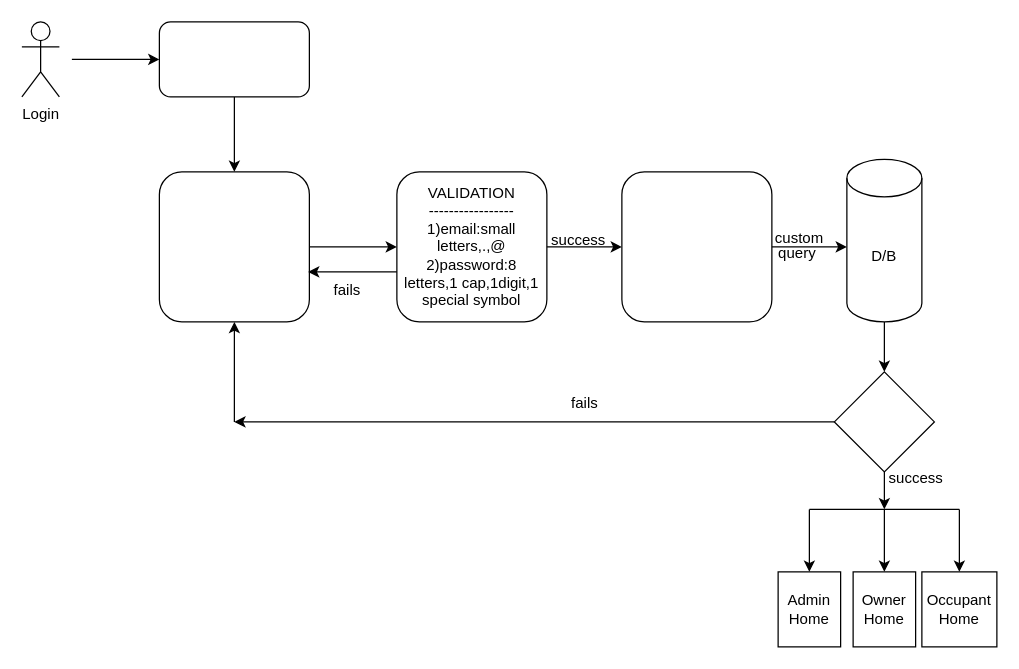
This 1019x669 diagram has some shape labels left out. The box of each missing label's shape, as (x1, y1, x2, y2) in pixels:
LOGIN ---------- email:email password:password: (158, 171, 309, 322)
MAIN COMPONENT: (158, 21, 309, 97)
REST API: (621, 171, 772, 322)
